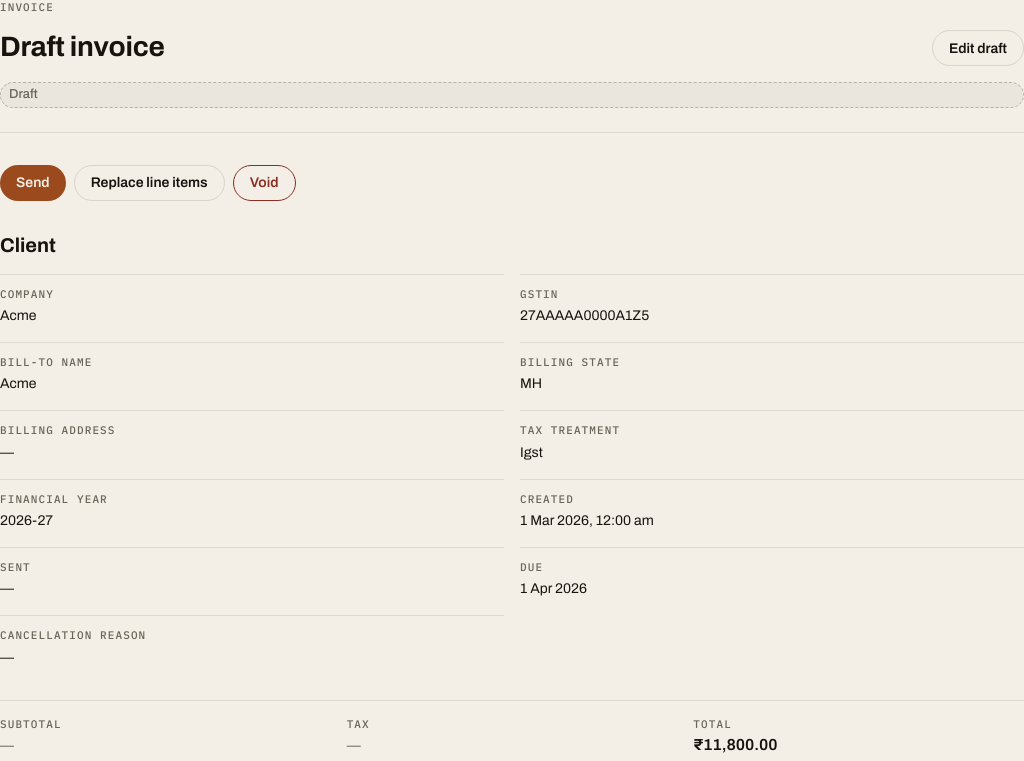
Test: Invoice detail › surfaces 422 send failures
What coordinates should you click on to do the following:
click the button "Send"
I would click on:
 (33, 183)
Its box is [0,165,66,201].
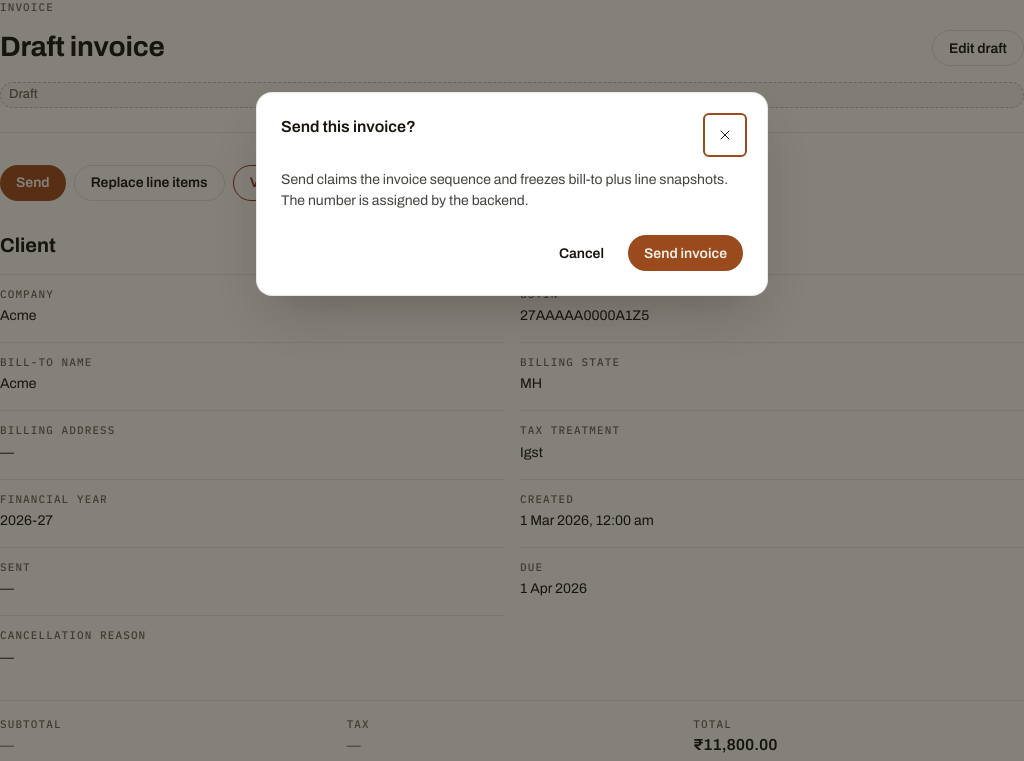
What coordinates should you click on to do the following:
click the button "Send invoice"
I would click on:
 (686, 253)
Its box is [628,235,743,271].
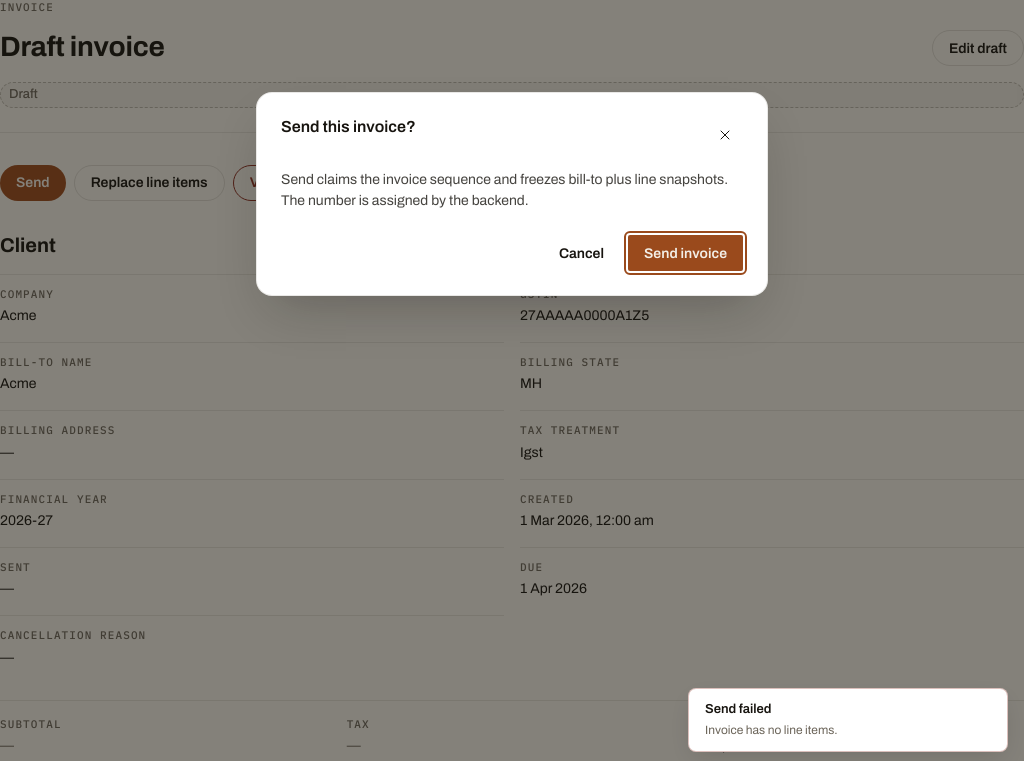
expect the text "Invoice has no line items." is shown: met, box [705,723,838,737]
